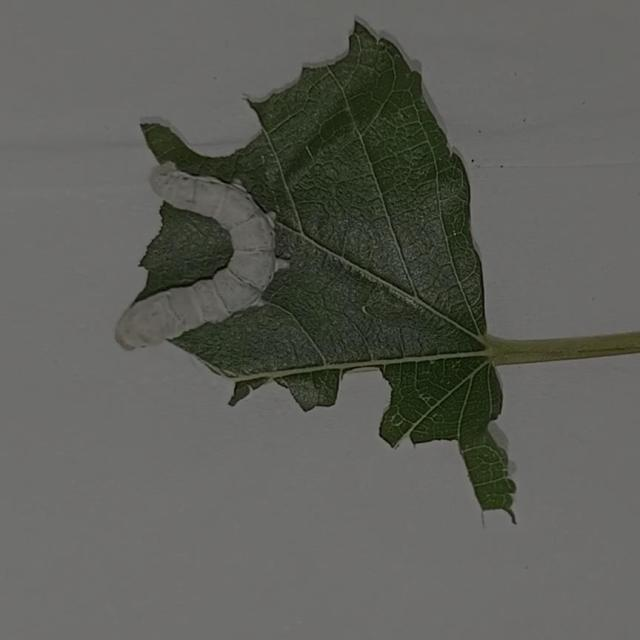Healthy: (106, 157, 293, 356)
